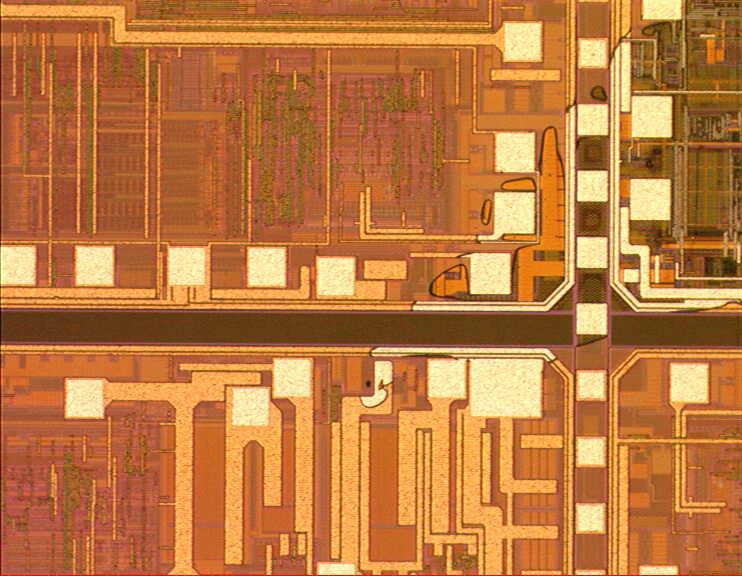COATING BAD: (357, 1, 742, 412)
